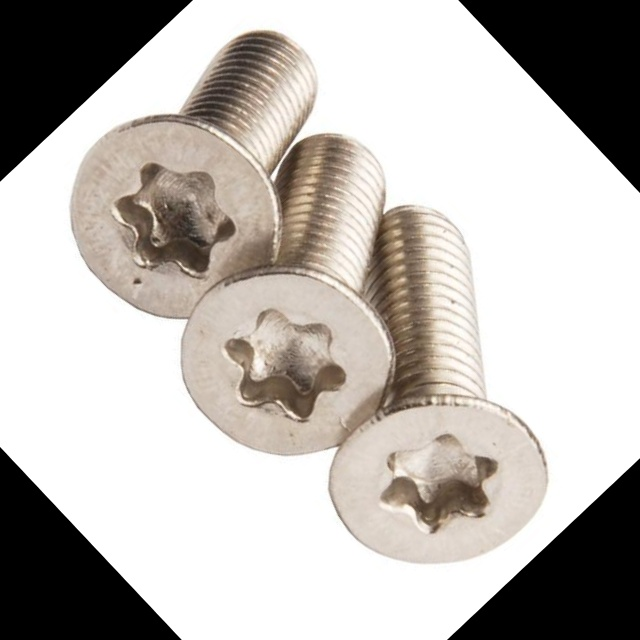torx: (88, 135, 262, 310), (199, 280, 369, 450), (358, 406, 519, 567)
